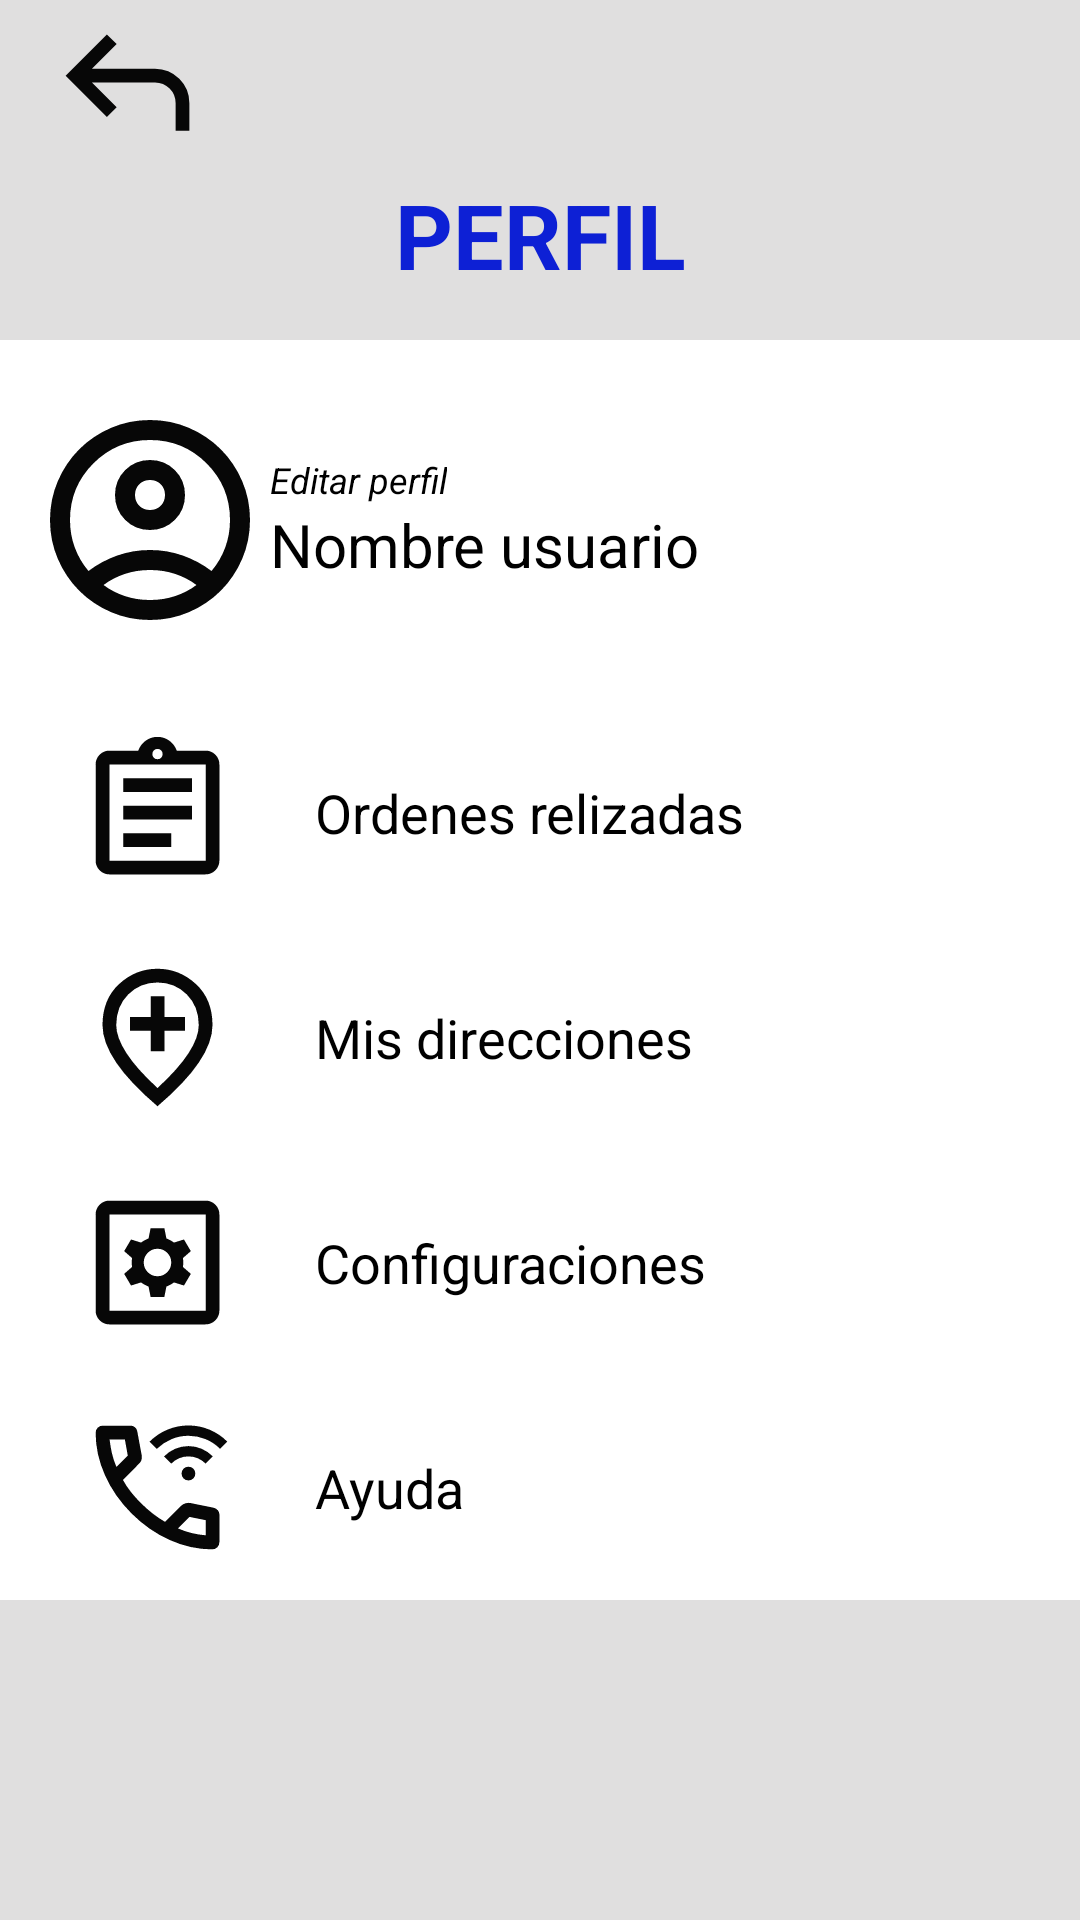

Icons on this 1080x1920 Android screen, each with the point to tap as point (x, y):
ordenes realizaadas: point (157, 806)
regresar: point (127, 82)
